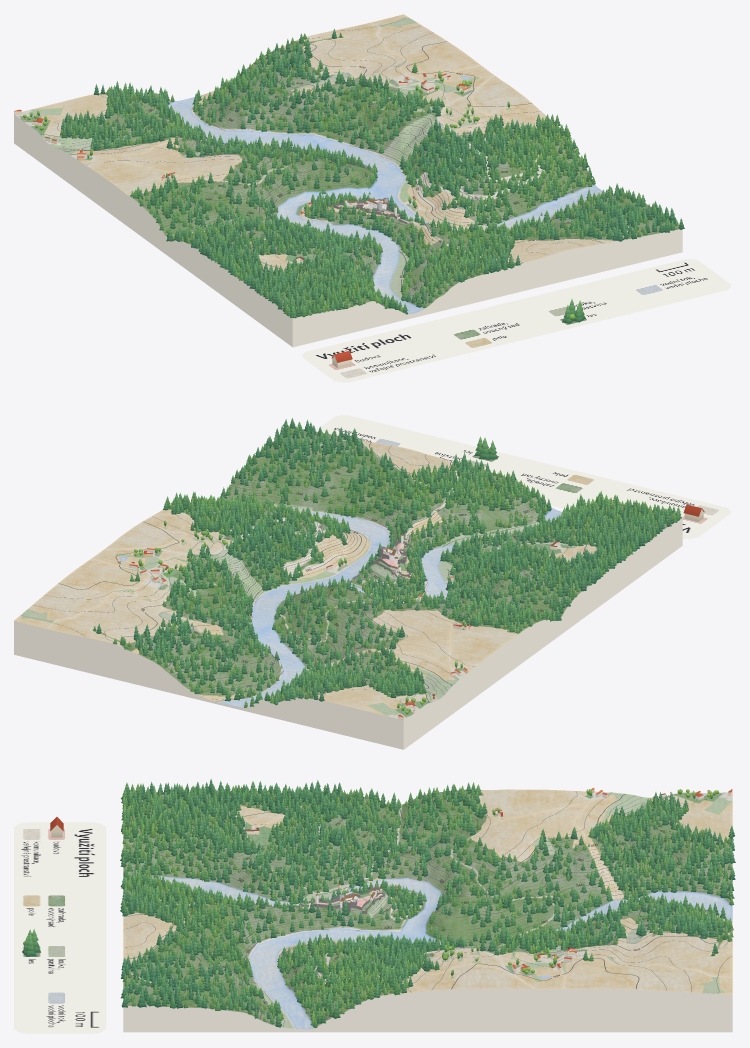
File: Zvikov_base_sada3_otazka1.glb
3 renders of one model, top to bottom at view 1: azimuth 30°, elevation 25°; view 2: azimuth 150°, elevation 25°; view 3: azimuth 270°, elevation 25°, orthographic. The views are drawn at different scales.
Visible parts, largest first — view 1: DMR_1953, Zvikov_stromy_body_SMO5, legenda_panel, vrstevnice, Zvikov_SMO5_budovy, Node0, legenda_objekty; view 2: DMR_1953, Zvikov_stromy_body_SMO5, legenda_panel, vrstevnice, Zvikov_SMO5_budovy, Node0, legenda_objekty; view 3: DMR_1953, Zvikov_stromy_body_SMO5, legenda_panel, vrstevnice, Node0, Zvikov_SMO5_budovy, legenda_objekty.
Part boxes in pixels (bbox=[...]): DMR_1953: bbox=[14, 14, 682, 347]; Zvikov_stromy_body_SMO5: bbox=[23, 28, 684, 318]; legenda_panel: bbox=[302, 259, 730, 382]; vrstevnice: bbox=[19, 18, 652, 310]; Zvikov_SMO5_budovy: bbox=[14, 73, 470, 262]; Node0: bbox=[327, 197, 410, 224]; legenda_objekty: bbox=[331, 299, 585, 368]; DMR_1953: bbox=[14, 428, 682, 749]; Zvikov_stromy_body_SMO5: bbox=[93, 418, 681, 714]; legenda_panel: bbox=[315, 415, 730, 538]; vrstevnice: bbox=[21, 436, 623, 717]; Zvikov_SMO5_budovy: bbox=[128, 541, 559, 720]; Node0: bbox=[372, 533, 410, 579]; legenda_objekty: bbox=[474, 436, 704, 521]; DMR_1953: bbox=[123, 789, 732, 1032]; Zvikov_stromy_body_SMO5: bbox=[120, 778, 735, 1027]; legenda_panel: bbox=[14, 822, 106, 1033]; vrstevnice: bbox=[124, 791, 731, 1026]; Node0: bbox=[295, 887, 385, 913]; Zvikov_SMO5_budovy: bbox=[245, 788, 732, 971]; legenda_objekty: bbox=[22, 817, 63, 956].
Bounding box in the file's own units: 1491 × 180 × 2151.
7 materials, 3 textured.
